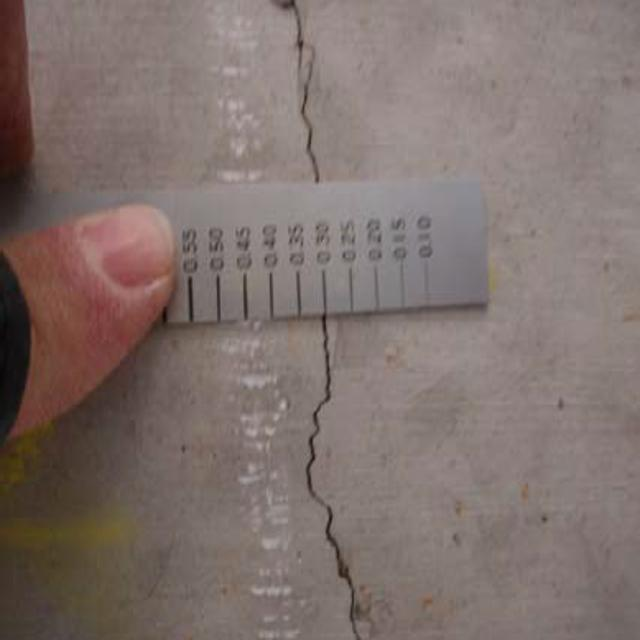crack: (298, 325, 370, 640)
freelime: (277, 3, 327, 190)
